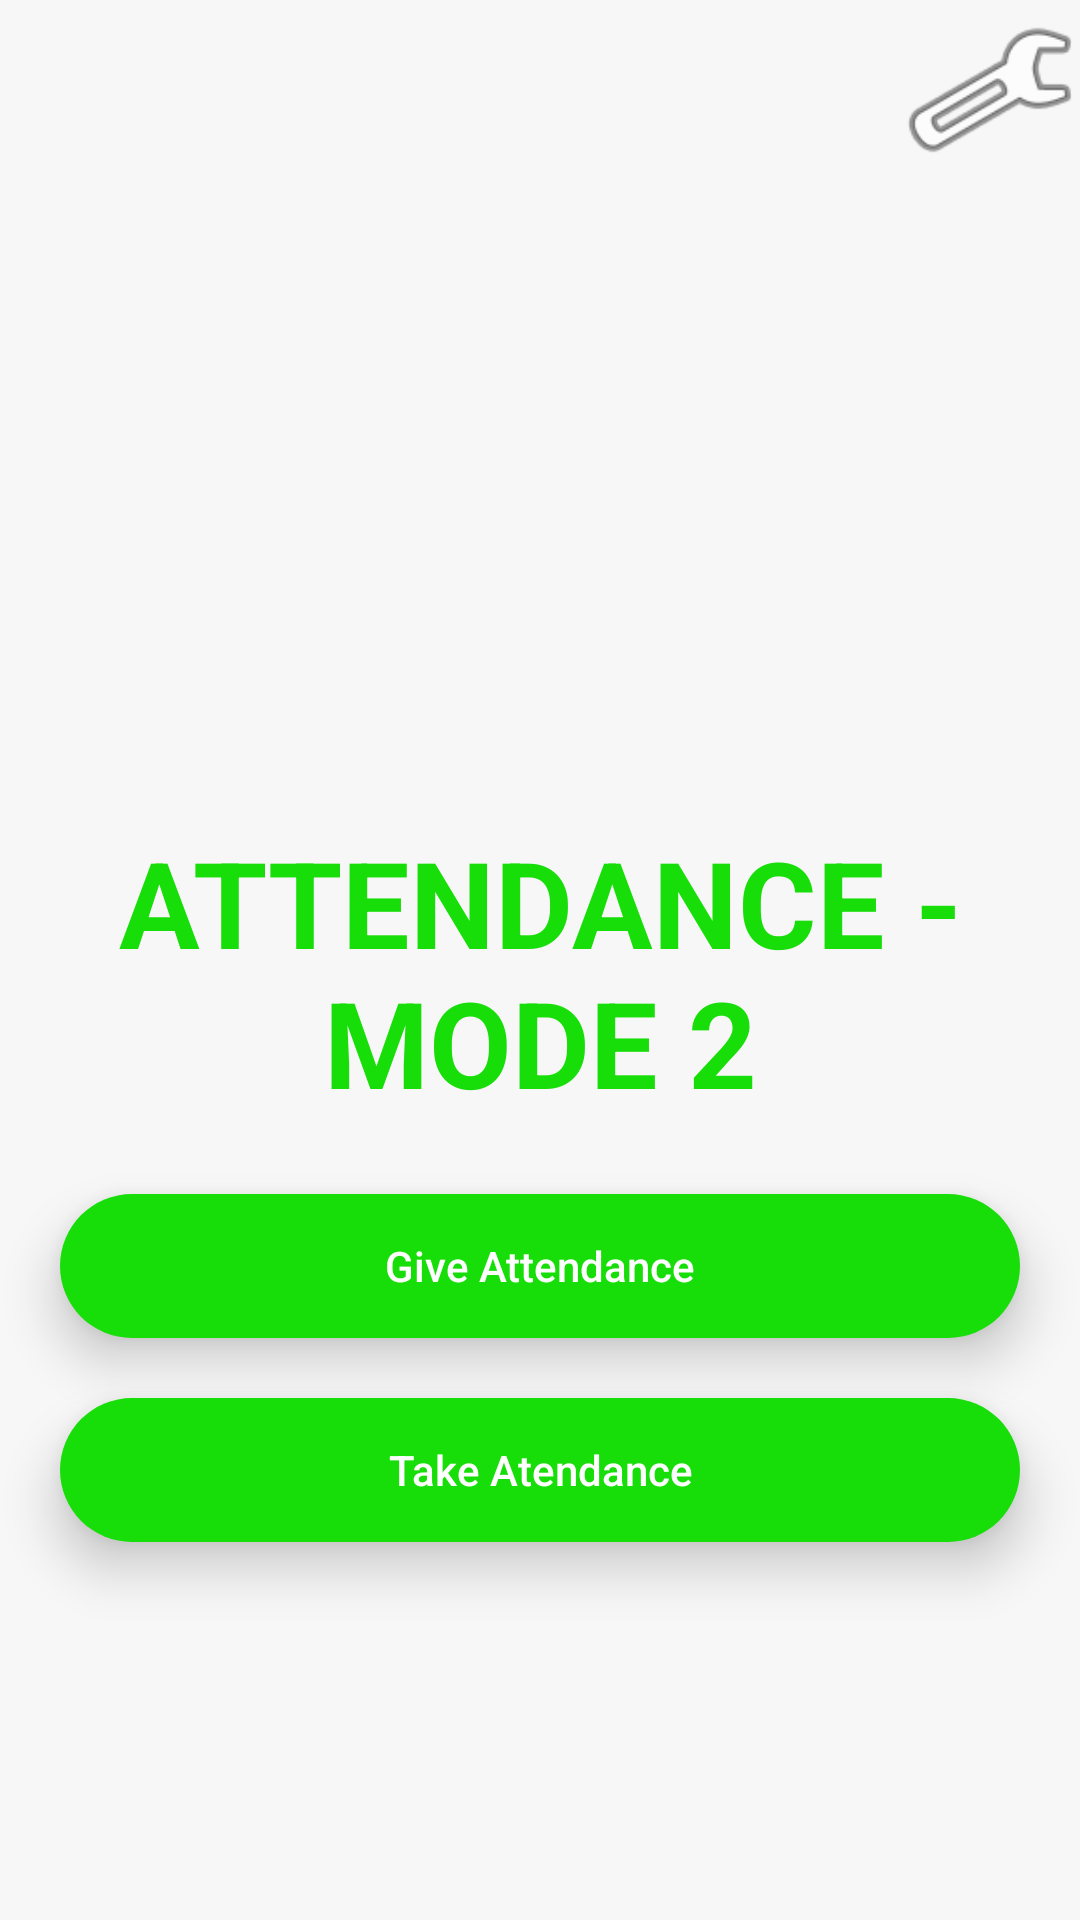

Screen size 1080 × 1920. Icon name, then its center in pixels as [x,y]:
manage: [990,90]
